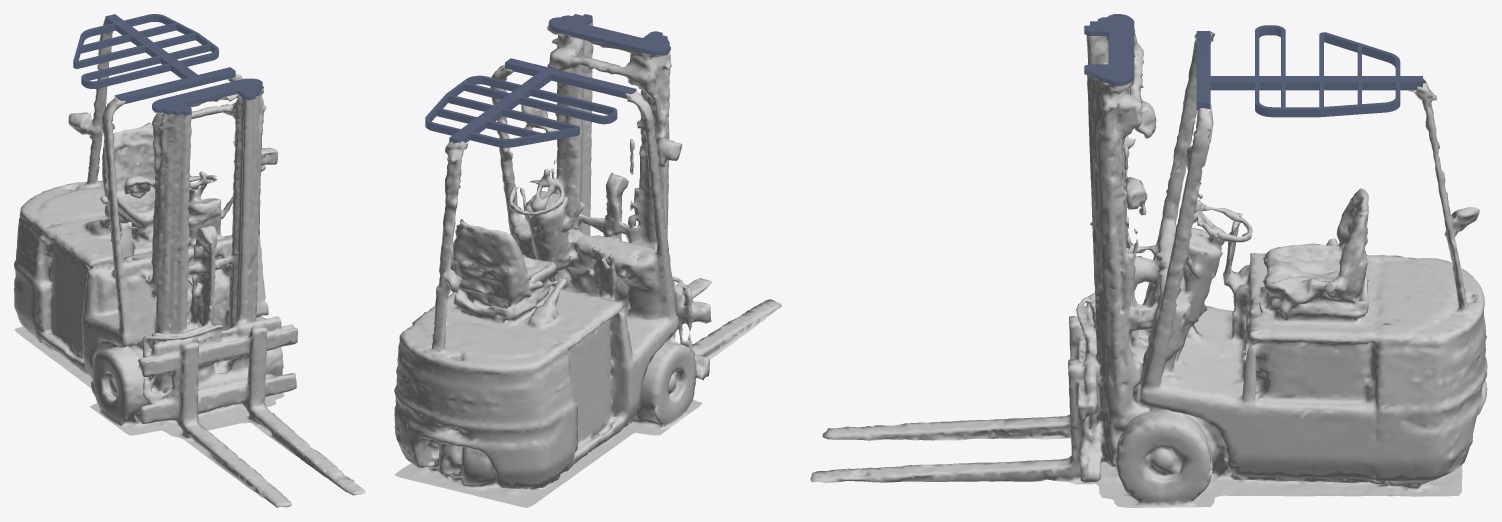
The picture shows the model from 3 angles, left to right: view 1: azimuth 30°, elevation 25°; view 2: azimuth 150°, elevation 25°; view 3: azimuth 270°, elevation 25°; orthographic projection. The views are drawn at different scales.
Visible parts, largest first — view 1: VZV2_VZV2_u1_v1_0, Shape001, Box002_black_0, Box001; view 2: VZV2_VZV2_u1_v1_0, Shape001, Box002_black_0, Box001; view 3: VZV2_VZV2_u1_v1_0, Shape001, Box002_black_0, Box001.
Part boxes in pixels (x1,y1,x2,y2): VZV2_VZV2_u1_v1_0: [14, 18, 365, 507]; Shape001: [73, 14, 218, 88]; Box002_black_0: [152, 78, 262, 115]; Box001: [116, 67, 235, 104]; VZV2_VZV2_u1_v1_0: [394, 21, 781, 507]; Shape001: [425, 67, 617, 147]; Box002_black_0: [548, 14, 670, 54]; Box001: [505, 58, 636, 98]; VZV2_VZV2_u1_v1_0: [810, 29, 1487, 507]; Shape001: [1197, 25, 1422, 117]; Box002_black_0: [1084, 14, 1134, 85]; Box001: [1196, 31, 1210, 110].
Size of the model in its own units: 1.29 by 2.47 by 3.68.
